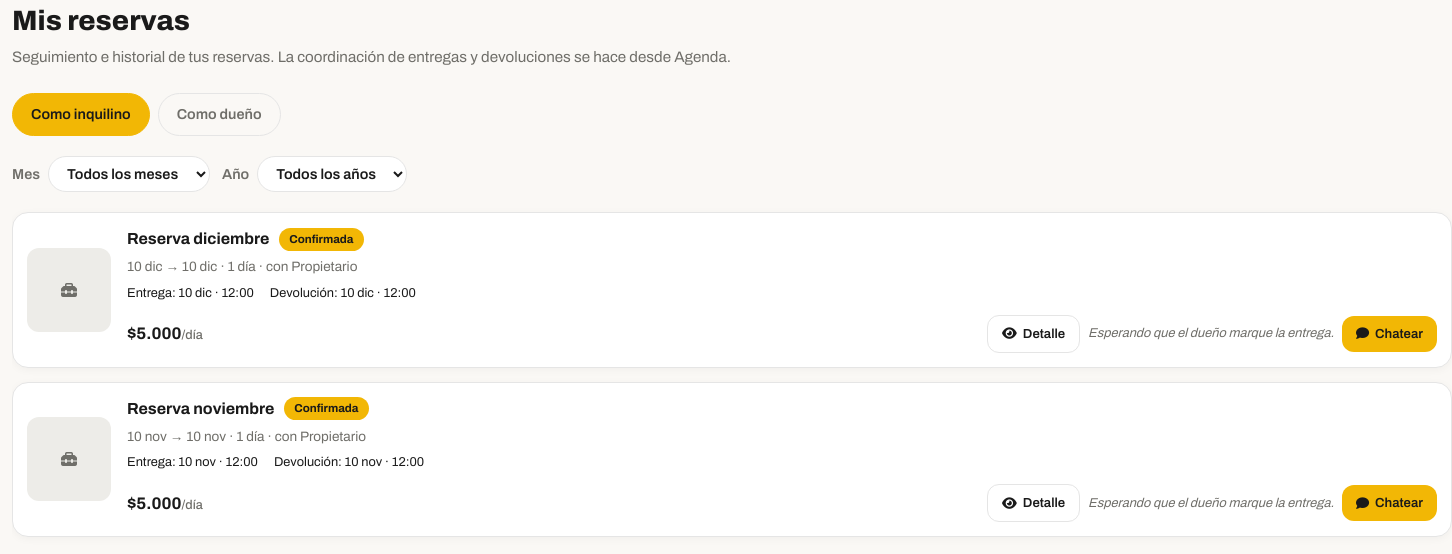
Test: ReservasList — filtro por mes y año › filtra por mes de inicio (dateInit) manteniendo el año
Select "Noviembre" in the dropdown labelled "Mes" at (129, 174), box [48,156,210,192]
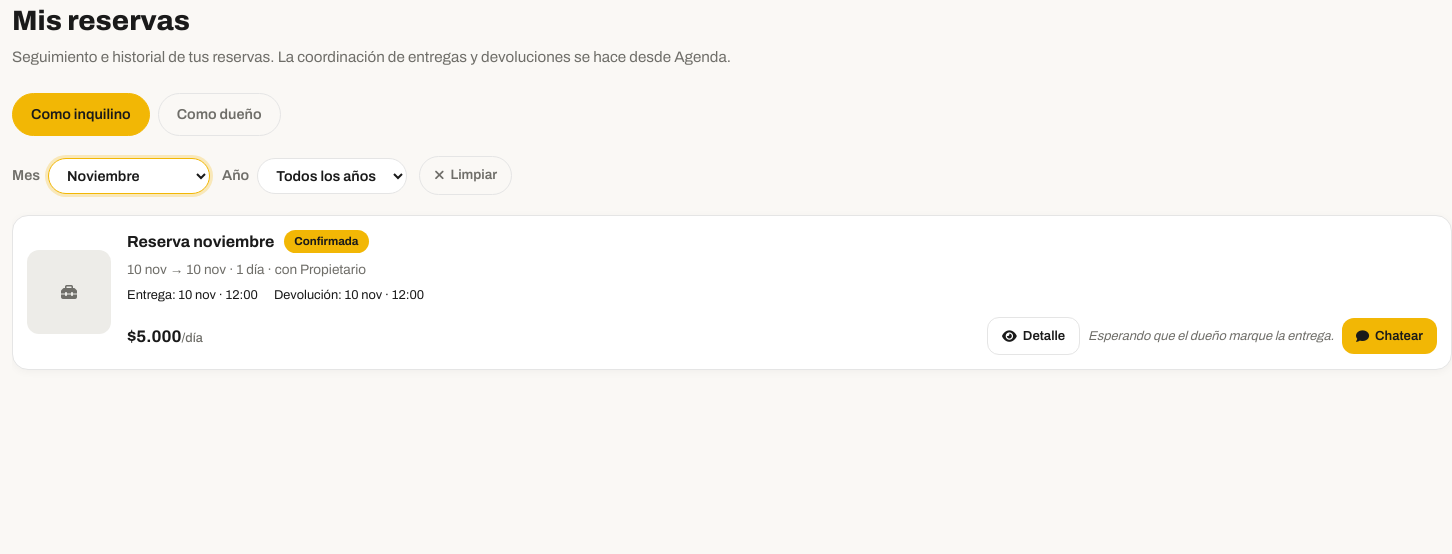
Expected: the heading "Reserva noviembre" is shown, [127,230,274,254]
Now the heading "Reserva diciembre" is gone
Now the button "Limpiar" is shown, box [419,156,512,195]
